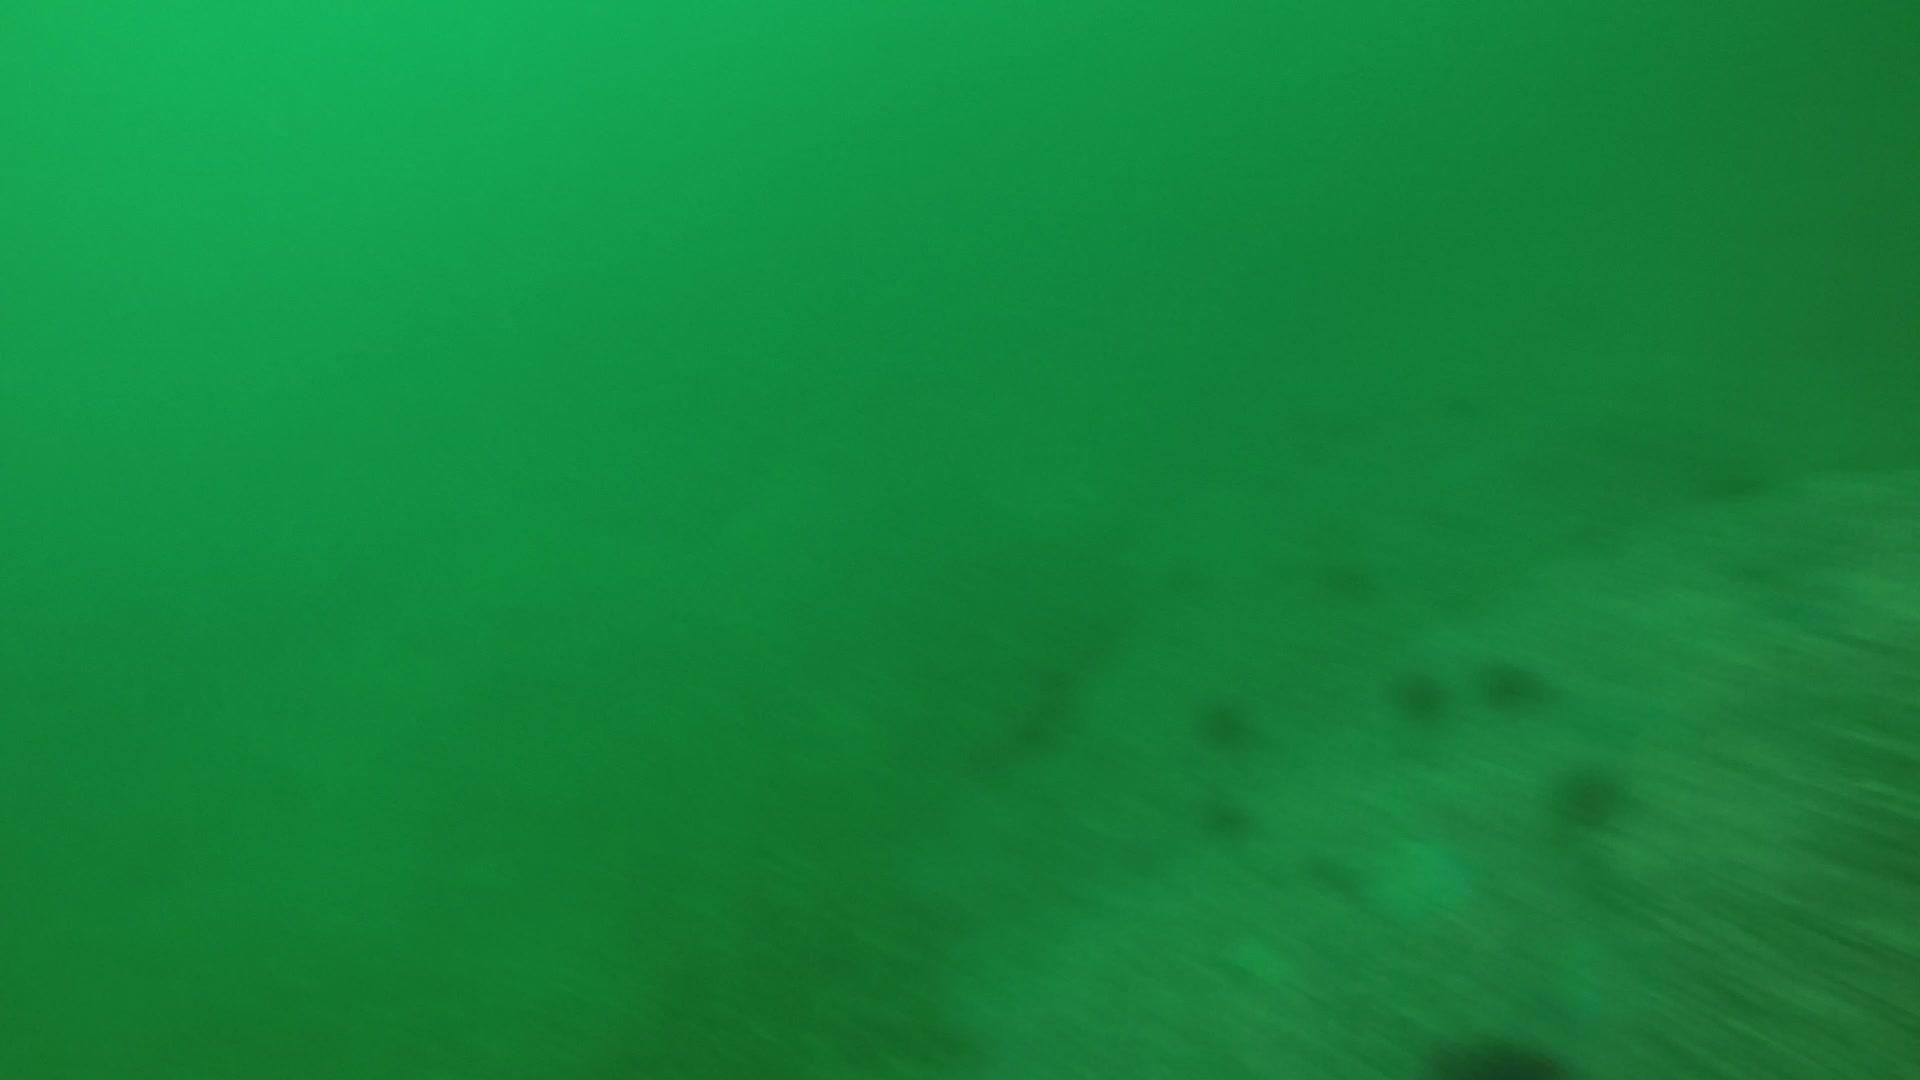echinus: (1425, 1022, 1565, 1079), (1547, 756, 1633, 832), (1689, 442, 1768, 505), (1189, 690, 1261, 752), (1480, 651, 1552, 712), (1385, 662, 1451, 724), (1312, 549, 1379, 607), (1197, 793, 1259, 845)
starfish: (1338, 823, 1480, 936)
